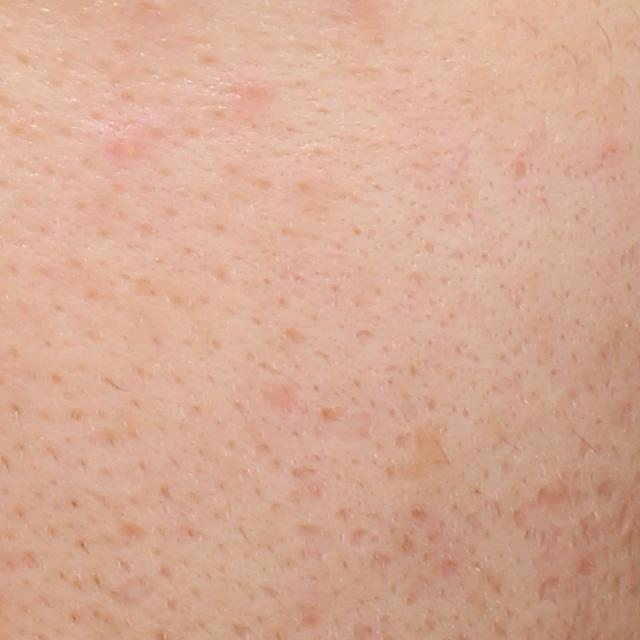atrophic_scar: (383, 426, 461, 485), (262, 376, 307, 419), (537, 485, 595, 509), (369, 549, 394, 590), (573, 550, 600, 578), (537, 574, 561, 605), (503, 159, 530, 184), (320, 404, 352, 425), (597, 475, 619, 503), (617, 497, 633, 535), (576, 436, 596, 462), (511, 509, 528, 533)
